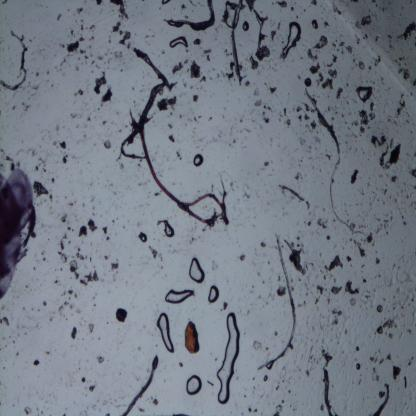Air bubble: (214, 312, 240, 404), (281, 20, 302, 58), (157, 312, 176, 353), (165, 287, 194, 305), (188, 256, 206, 284), (184, 376, 203, 396), (356, 83, 373, 102), (170, 36, 188, 50), (206, 284, 219, 303), (163, 220, 175, 238), (193, 152, 204, 166), (140, 233, 147, 243)
Background material: (56, 239, 99, 288), (242, 0, 272, 70), (368, 132, 402, 170), (73, 1, 98, 38), (351, 101, 376, 136), (286, 239, 309, 275), (184, 318, 203, 358), (280, 184, 310, 209), (58, 286, 78, 316), (91, 49, 119, 70), (112, 20, 132, 48), (379, 205, 395, 240), (331, 41, 354, 65), (313, 134, 329, 168), (374, 316, 397, 339), (66, 34, 88, 58), (316, 69, 338, 90), (255, 98, 272, 125), (59, 198, 72, 231), (32, 178, 51, 200), (298, 106, 316, 129), (189, 59, 206, 83), (352, 14, 374, 32), (78, 219, 98, 238), (109, 1, 129, 20), (158, 93, 176, 114), (323, 254, 344, 272), (399, 20, 416, 42), (235, 179, 252, 200), (350, 237, 366, 258), (370, 350, 392, 365), (2, 154, 20, 172), (160, 126, 176, 144), (94, 72, 107, 94), (320, 349, 334, 369), (56, 140, 67, 164), (343, 280, 360, 295), (220, 64, 233, 83), (280, 108, 292, 128), (397, 66, 412, 82), (312, 34, 329, 48), (314, 284, 325, 305), (396, 98, 407, 119), (331, 307, 342, 327), (350, 167, 361, 186), (172, 62, 185, 77), (361, 286, 373, 302), (102, 88, 113, 105), (333, 1, 344, 18), (295, 367, 312, 378), (258, 369, 271, 383), (108, 258, 121, 272), (329, 284, 344, 296), (392, 364, 402, 382), (366, 231, 376, 248), (274, 284, 286, 298), (306, 48, 318, 61), (273, 401, 284, 415), (204, 47, 212, 65), (302, 76, 314, 88), (0, 315, 11, 328), (148, 245, 158, 259), (309, 63, 321, 74), (191, 38, 203, 49), (317, 217, 327, 230), (268, 82, 277, 96), (190, 92, 200, 104), (235, 251, 247, 261), (242, 19, 252, 31), (70, 325, 78, 340), (320, 18, 330, 30), (357, 59, 366, 72), (174, 148, 183, 161), (352, 340, 360, 354), (352, 359, 362, 370), (375, 304, 384, 316), (276, 0, 288, 9), (402, 374, 408, 391), (74, 88, 84, 98), (242, 81, 251, 92), (296, 170, 304, 182), (97, 353, 105, 365), (264, 162, 272, 174), (221, 300, 229, 312), (254, 85, 262, 97), (151, 395, 158, 408), (32, 358, 41, 368), (408, 167, 416, 178), (309, 18, 317, 29), (88, 322, 94, 336), (101, 224, 108, 236), (336, 89, 344, 99), (103, 141, 114, 148), (85, 115, 91, 127), (40, 300, 50, 307), (391, 174, 398, 184), (376, 390, 384, 398), (309, 1, 319, 7), (89, 383, 96, 391), (374, 257, 381, 265), (95, 0, 104, 6), (57, 12, 63, 21), (161, 0, 171, 5), (99, 122, 107, 128), (346, 254, 352, 262), (80, 376, 86, 384), (325, 233, 331, 241), (364, 276, 368, 287)
Cellulose filter fibre: (305, 88, 359, 235), (259, 236, 301, 369), (131, 48, 173, 126), (122, 354, 159, 415), (0, 29, 29, 92), (166, 0, 215, 31), (229, 0, 243, 84), (117, 122, 146, 160), (323, 368, 337, 415), (372, 381, 391, 415)
Cotton: (136, 126, 224, 225)
Diatom: (116, 308, 128, 322)
Pen: (0, 169, 32, 298)
